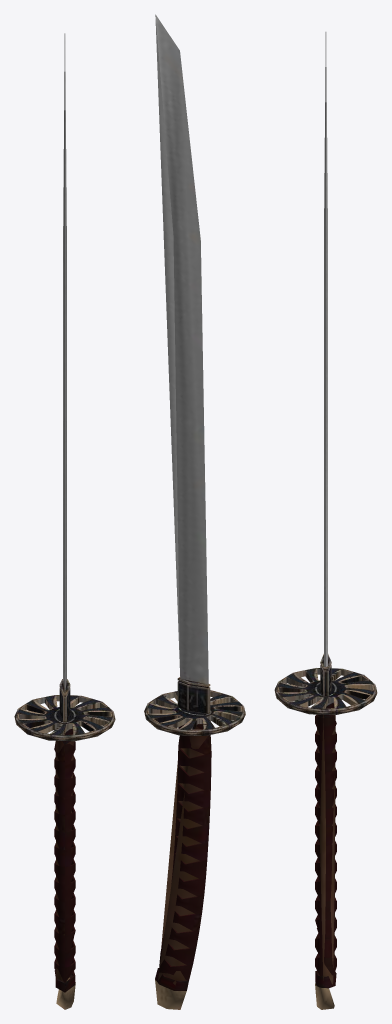
File: sword-katana.lite.483f6215.glb
3 views of the same model, side by side, from view 1: azimuth 90°, elevation 25°; view 2: azimuth 150°, elevation 25°; view 3: azimuth 270°, elevation 25° (orthographic).
Parts seen in each view (by area): view 1: model; view 2: model; view 3: model.
Part boxes in pixels (x1,y1,x2,y2): model: (14, 33, 115, 1009); model: (144, 14, 245, 1009); model: (274, 32, 377, 1009).
Bounding box in the file's own units: 0.0934 × 1 × 0.0934.
1 material, 1 textured.
